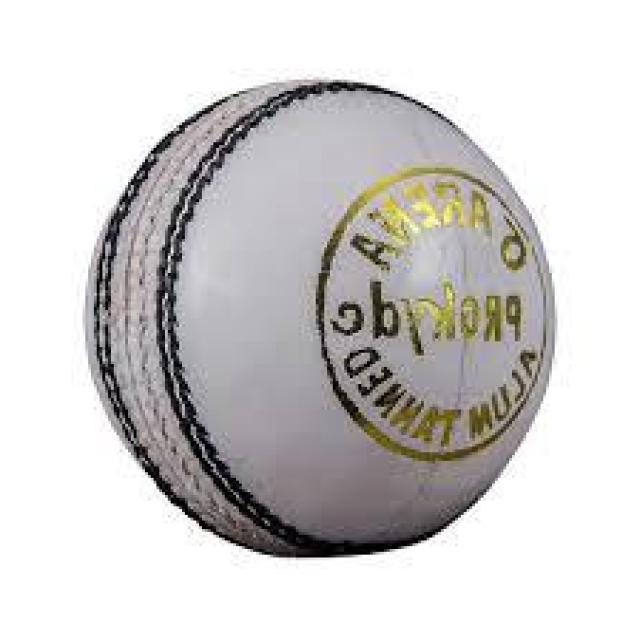ball: (82, 82, 554, 560)
